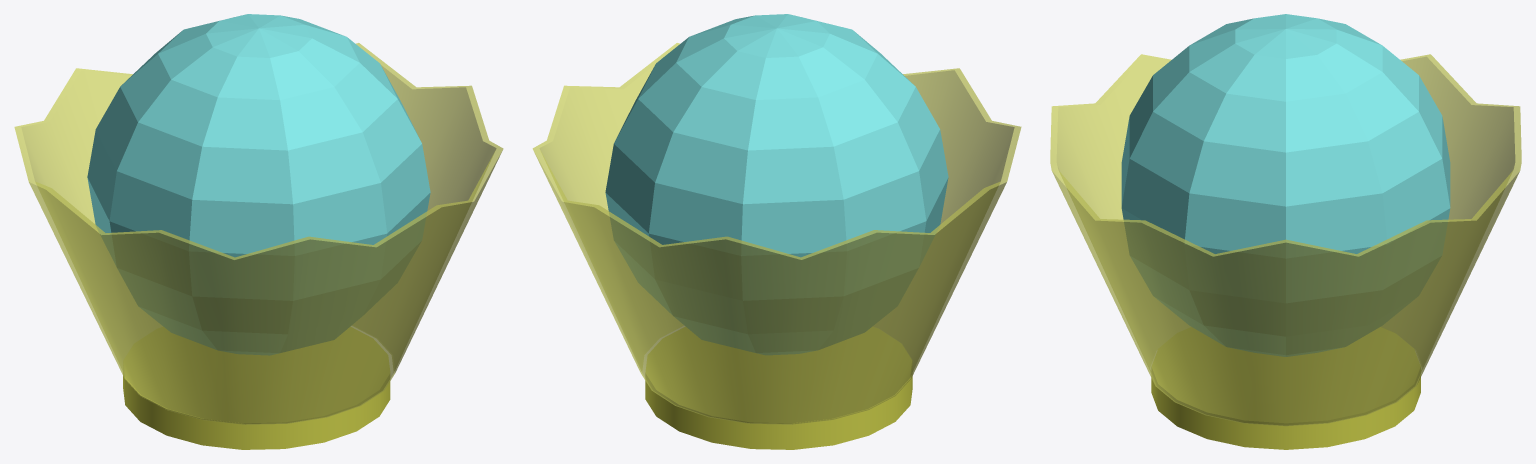
Rendered from PowerShot_Out.fbx.
3 renders of one model, left to right at view 1: azimuth 30°, elevation 25°; view 2: azimuth 150°, elevation 25°; view 3: azimuth 270°, elevation 25°, orthographic.
Visible parts, largest first — view 1: pSphere4, pPipe1, pCylinder1; view 2: pSphere4, pPipe1, pCylinder1; view 3: pSphere4, pPipe1, pCylinder1.
Part boxes in pixels (x1,y1,x2,y2): pSphere4: (87, 14, 430, 355); pPipe1: (14, 43, 503, 424); pCylinder1: (123, 327, 390, 449); pSphere4: (605, 14, 948, 354); pPipe1: (532, 43, 1021, 424); pCylinder1: (645, 327, 912, 449); pSphere4: (1121, 14, 1450, 356); pPipe1: (1050, 54, 1521, 426); pCylinder1: (1151, 327, 1420, 449).
Size of the model in its own units: 7.46 by 6.1 by 7.14.
